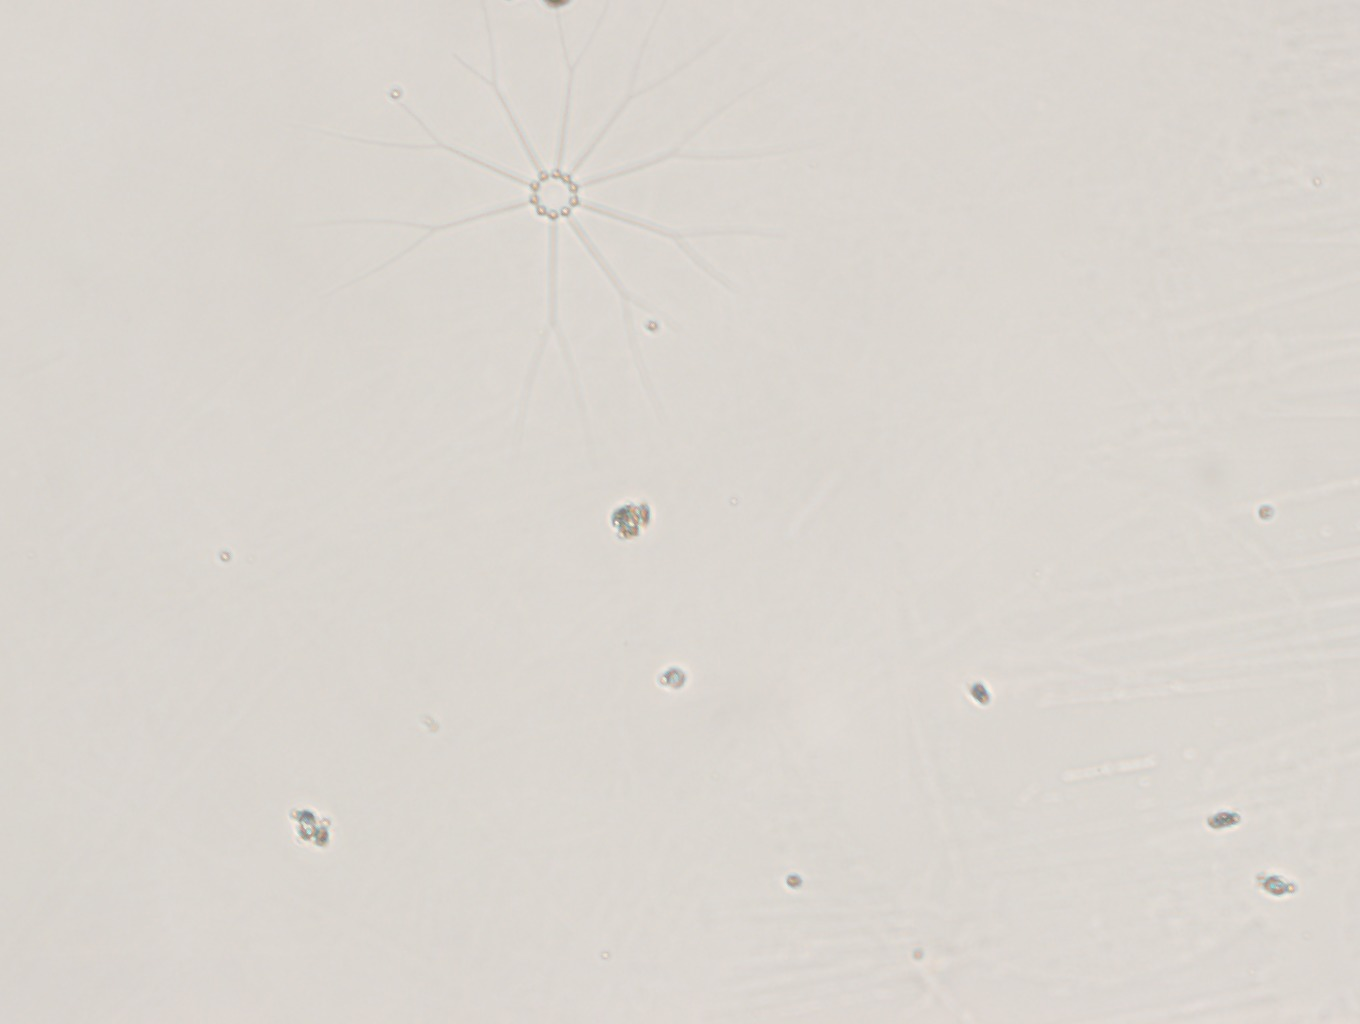bacteriastrum: (305, 1, 818, 438)
